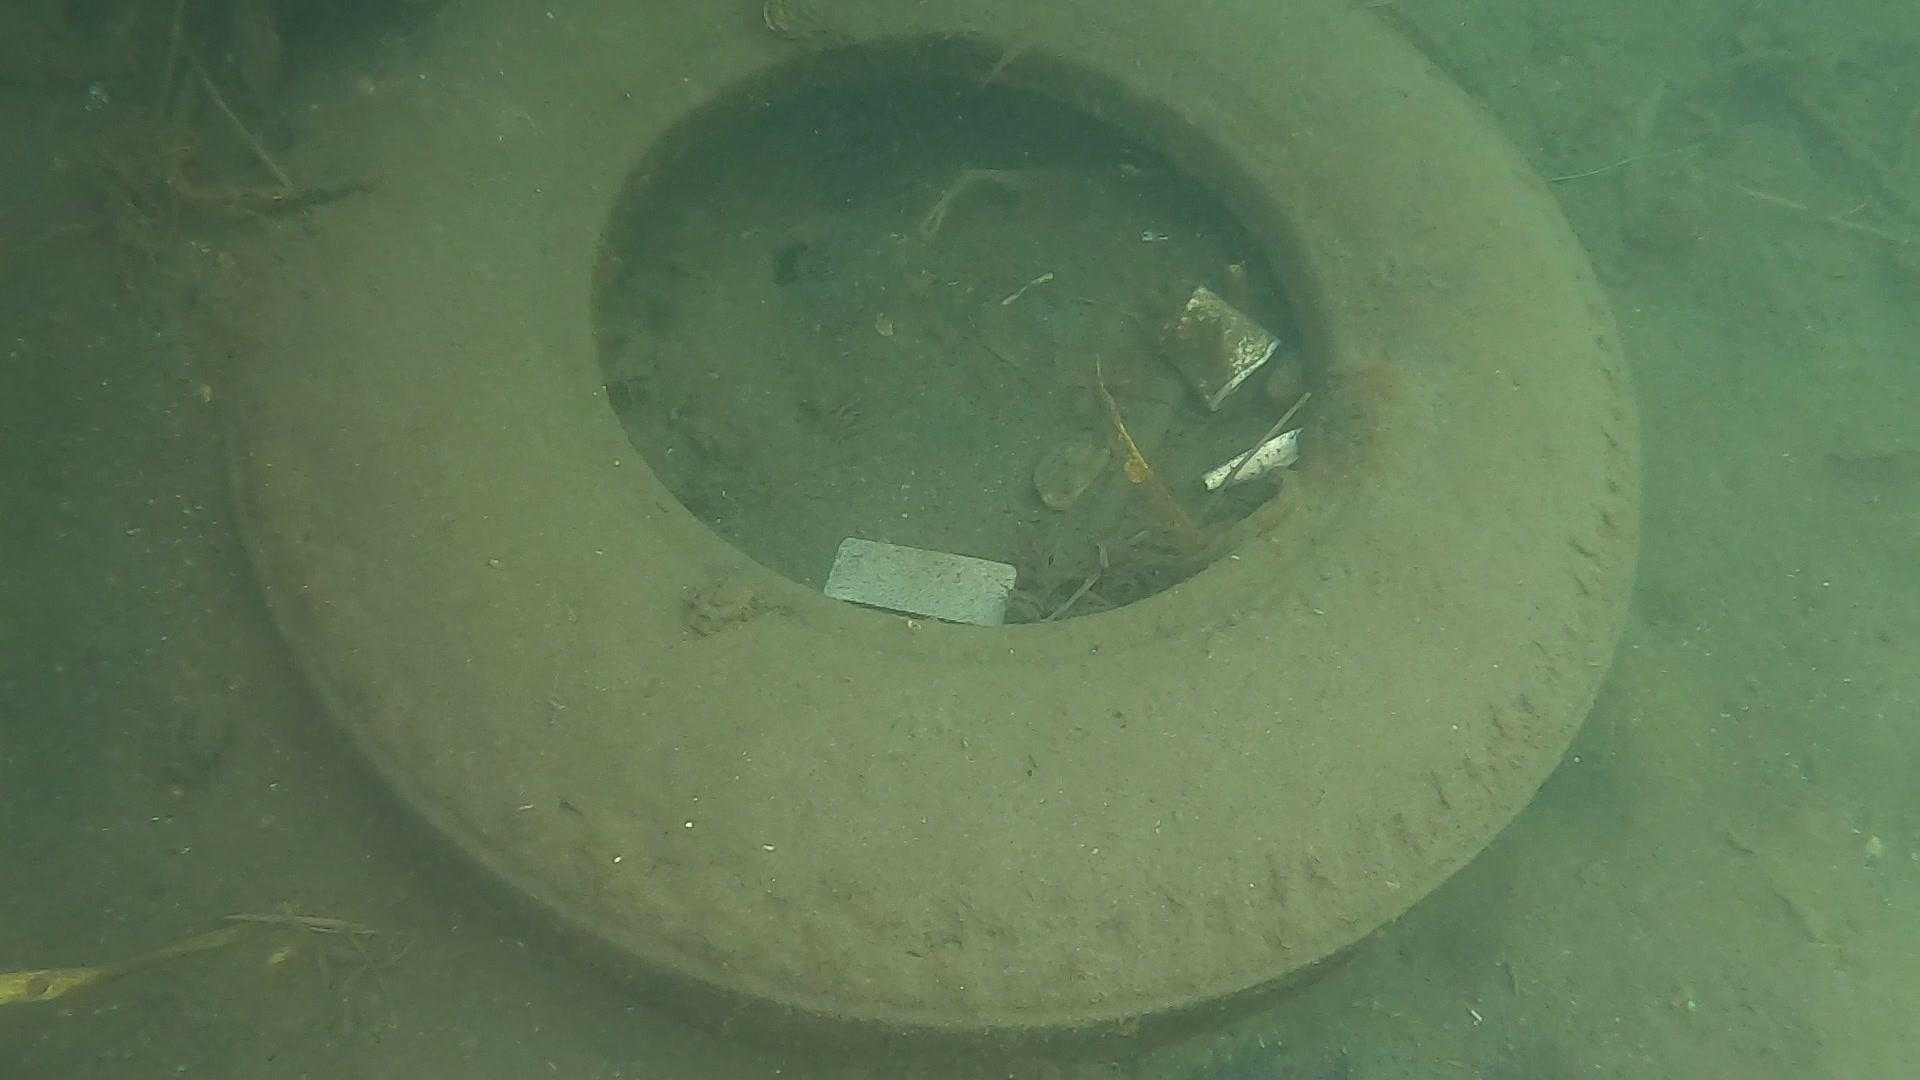tire: (220, 5, 1640, 1059)
